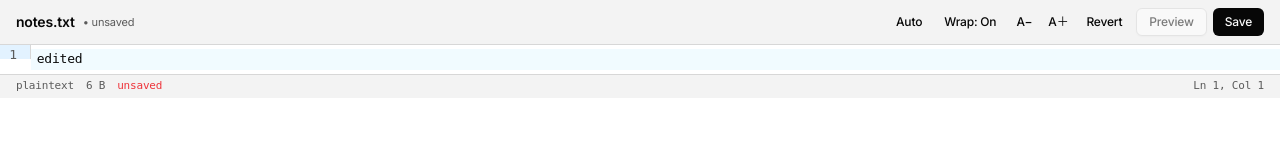
Test: FileTextEditor › save conflicts › overwrite drops the precondition so the retry cannot conflict again
What coordinates should you click on to do the following:
click the button "Save"
I would click on:
 (1238, 22)
Its box is x1=1213 y1=8 x2=1264 y2=36.
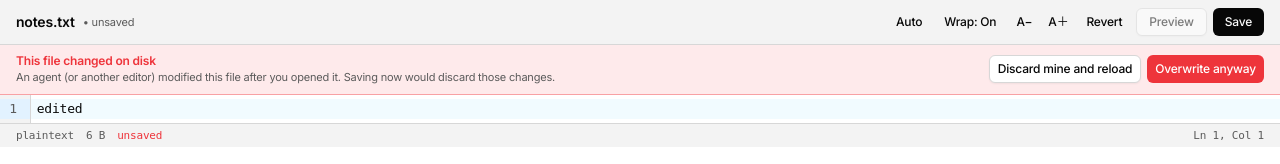
What coordinates should you click on to do the following:
click the button "Overwrite anyway"
I would click on:
 (1206, 69)
Its box is x1=1147 y1=55 x2=1264 y2=83.
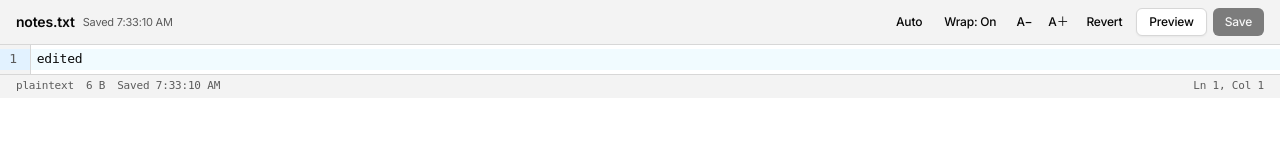
Expected: the text "changed on disk" is gone
Expected: the text "unsaved" is gone
